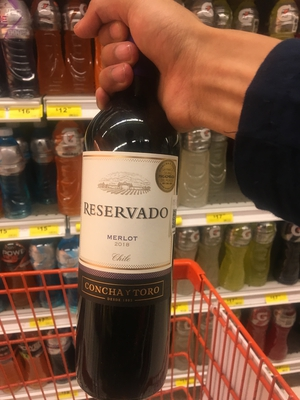reservado merlot: (80, 43, 193, 393)
